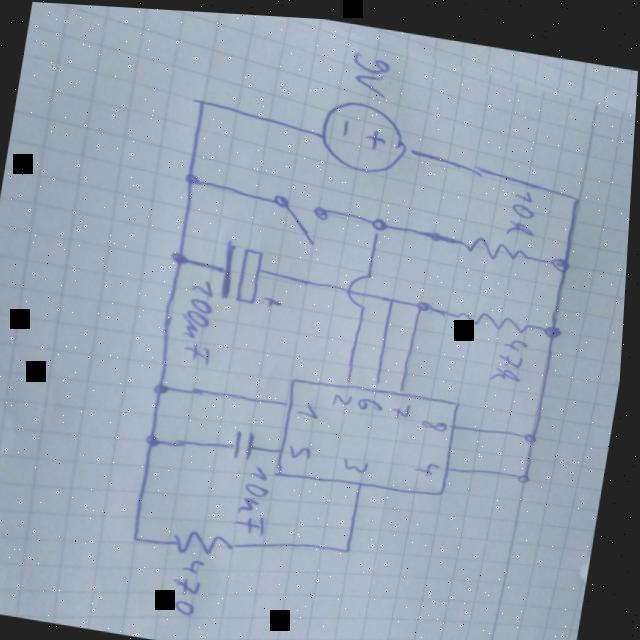capacitor: (221, 234, 272, 303), (232, 421, 265, 459)
crossover: (343, 262, 381, 309)
junction: (550, 242, 579, 267), (167, 243, 196, 268), (179, 163, 208, 187), (189, 88, 218, 109), (543, 311, 570, 333), (522, 420, 548, 440), (517, 461, 543, 480), (414, 290, 440, 309), (566, 180, 588, 201), (154, 374, 176, 394), (426, 220, 450, 237), (371, 209, 393, 227), (385, 287, 407, 303), (148, 429, 168, 446), (345, 537, 363, 551), (135, 529, 150, 540)
resistor: (443, 294, 543, 337), (169, 522, 243, 556), (465, 226, 536, 260)
source: (315, 89, 416, 174)
switch: (270, 188, 334, 242)
text: (175, 273, 228, 365), (236, 456, 282, 533), (171, 552, 216, 615), (489, 326, 536, 384), (346, 42, 396, 95), (504, 179, 542, 232), (418, 452, 447, 472), (300, 394, 326, 414), (360, 390, 390, 407), (347, 450, 375, 468), (424, 411, 454, 426), (292, 439, 318, 456), (395, 394, 418, 413), (335, 386, 358, 403)
